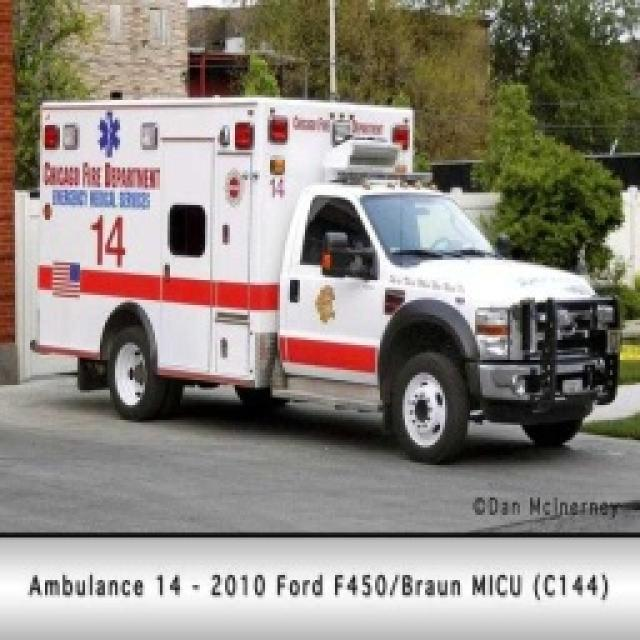emergency-vehicle: (24, 86, 634, 478)
